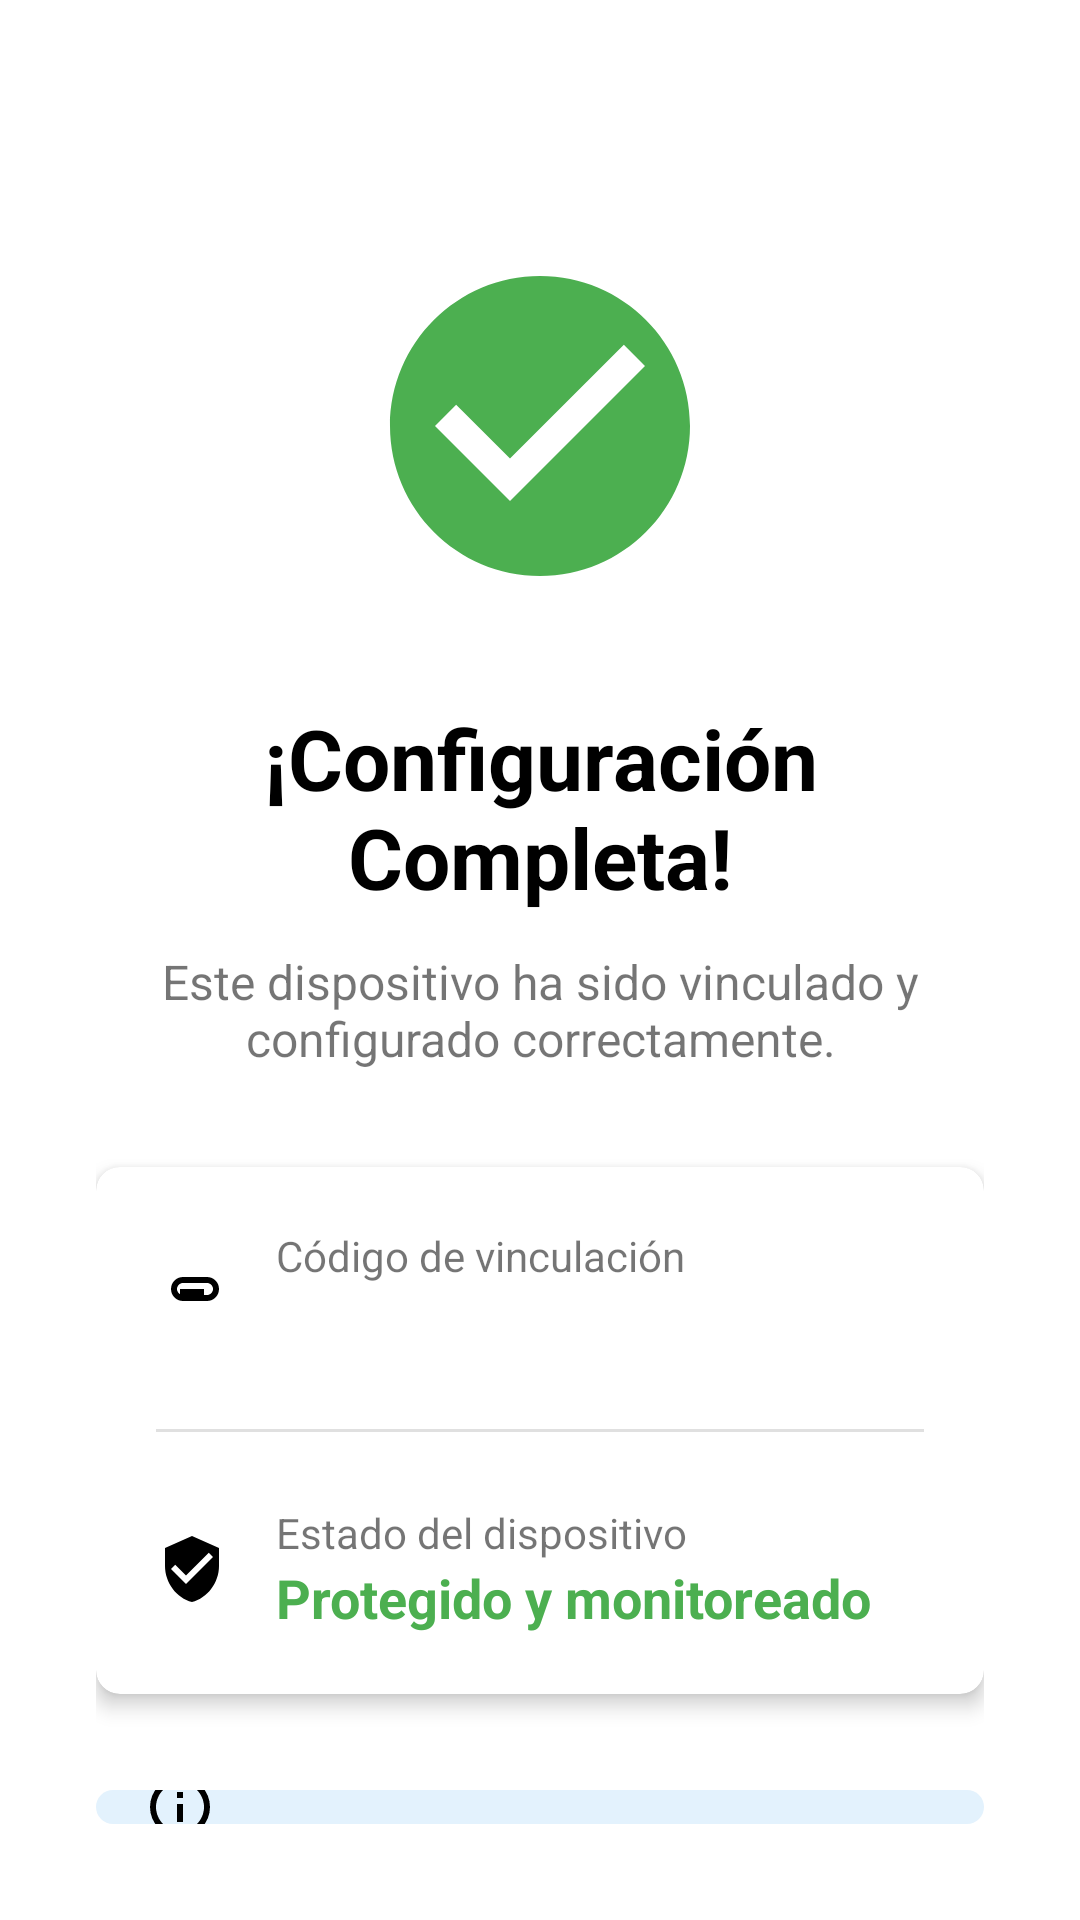

Locate icon controls on the screen. Image size 1080 × 1920, boxes as (x1, y1, x2, y2).
shield check: (165, 1536, 219, 1602)
success check: (390, 276, 690, 576)
